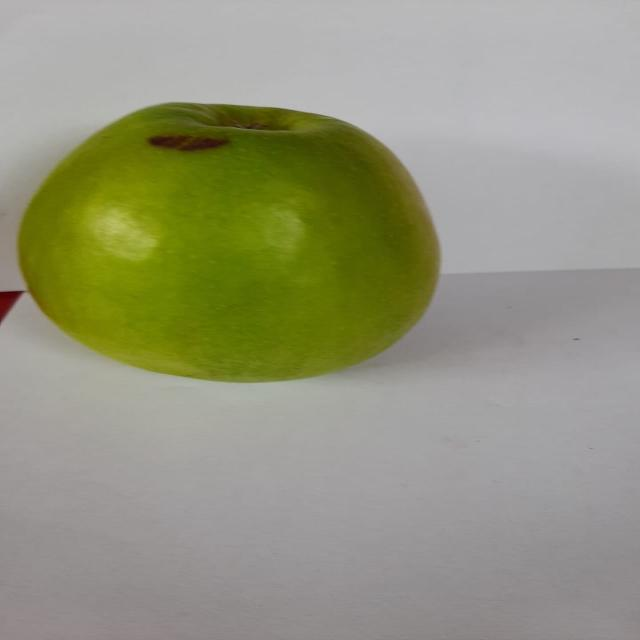50-_ripeness: (10, 97, 456, 389)
